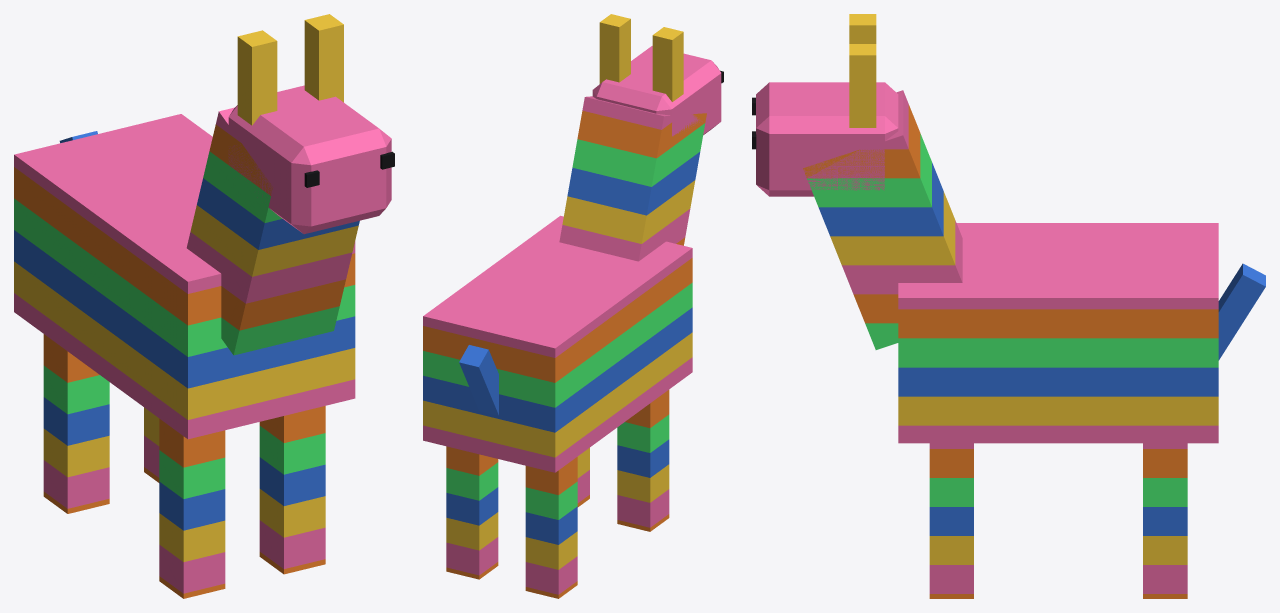
Rendered from DonkeyPinata.fbx.
3 renders of one model, left to right at view 1: azimuth 30°, elevation 25°; view 2: azimuth 150°, elevation 25°; view 3: azimuth 270°, elevation 25°, orthographic. The views are drawn at different scales.
Visible parts, largest first — view 1: DonkeyPinata; view 2: DonkeyPinata; view 3: DonkeyPinata.
Boxes of the visible parts, <box> form: DonkeyPinata: <box>14,14,394,598</box>; DonkeyPinata: <box>423,14,723,598</box>; DonkeyPinata: <box>752,14,1265,598</box>.
Bounding box in the file's own units: 2 × 6.6 × 5.77.
1 material, 1 textured.
